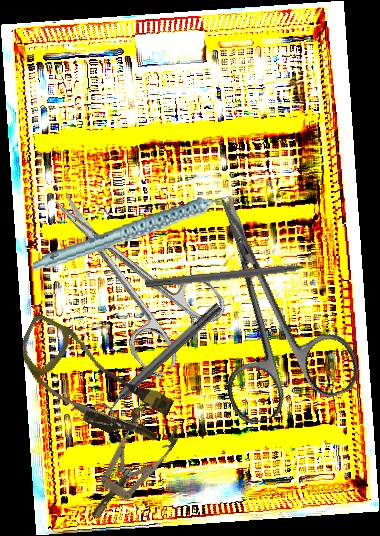Cannula: (2, 312, 183, 453)
Fixation Ring: (89, 297, 229, 427)
Handpiece: (27, 192, 247, 274)
Hook Surgical: (144, 260, 325, 291)
Iris Scissors: (167, 174, 366, 429), (23, 160, 236, 382)
Speculum: (71, 398, 186, 532)
